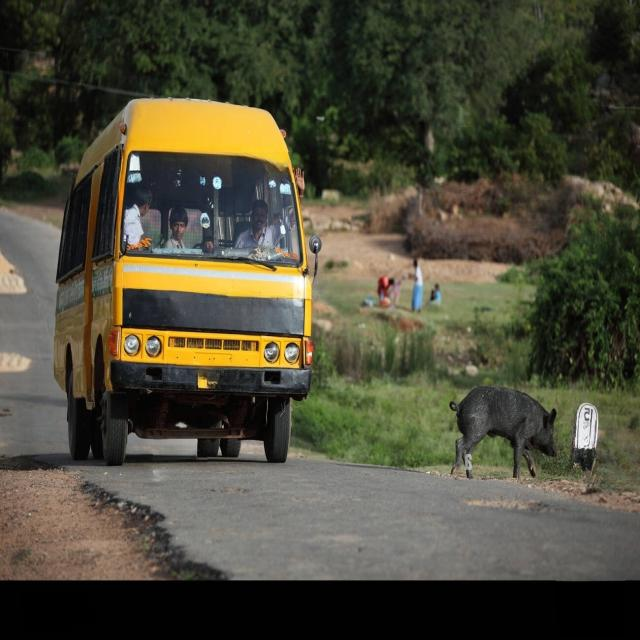bus: (54, 99, 326, 466)
